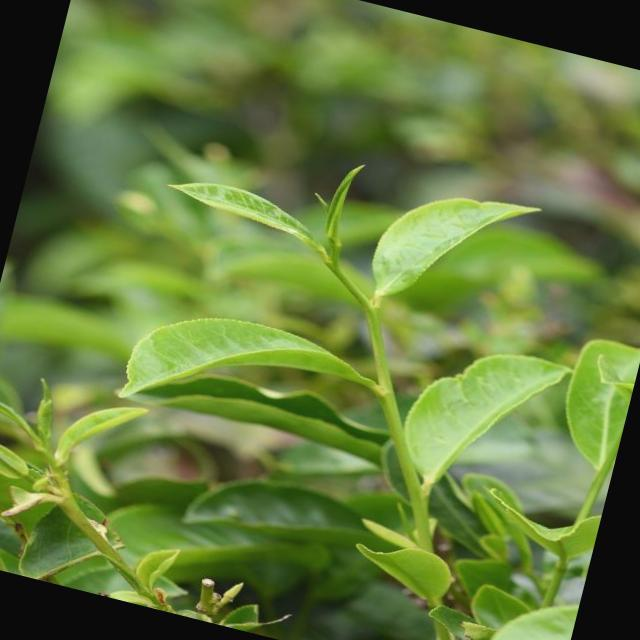Stem: (333, 264, 344, 277)
